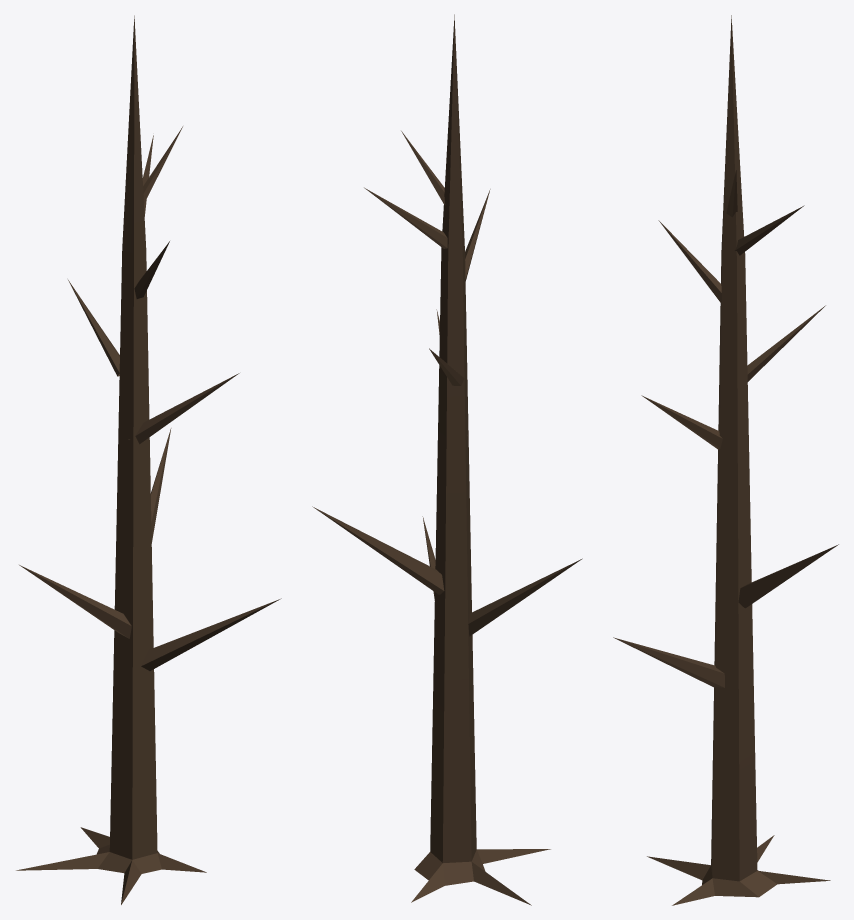
Rendered from dead.fbx.
The picture shows the model from 3 angles, left to right: view 1: azimuth 30°, elevation 25°; view 2: azimuth 150°, elevation 25°; view 3: azimuth 270°, elevation 25°; orthographic projection. The views are drawn at different scales.
Visible parts, largest first — view 1: tree_dead; view 2: tree_dead; view 3: tree_dead.
Boxes of the visible parts, x1=… form: tree_dead: x1=16, y1=15, x2=281, y2=904; tree_dead: x1=312, y1=14, x2=582, y2=905; tree_dead: x1=613, y1=15, x2=838, y2=905.
Bounding box in the file's own units: 207 × 788 × 187.
